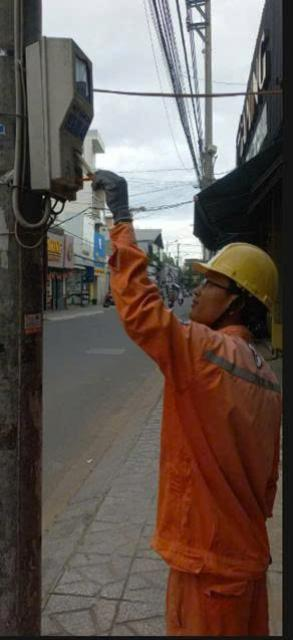gloves: (86, 166, 140, 229)
helmet: (176, 220, 293, 324)
